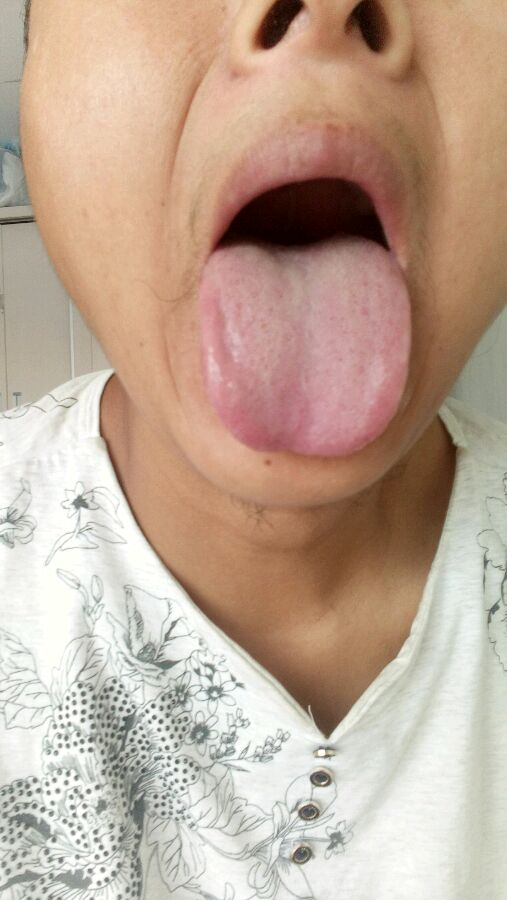baitaishe: (200, 235, 411, 457)
